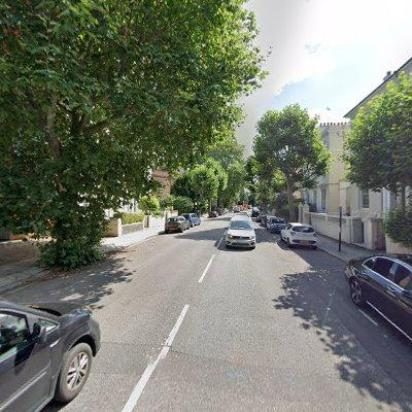moving-car: (0, 294, 100, 410), (224, 216, 256, 252)
stationary-car-onstreet: (344, 251, 410, 383), (282, 223, 318, 249), (164, 215, 188, 233), (266, 216, 290, 234), (180, 212, 202, 228), (260, 213, 276, 227), (255, 211, 267, 223), (208, 211, 220, 219)
